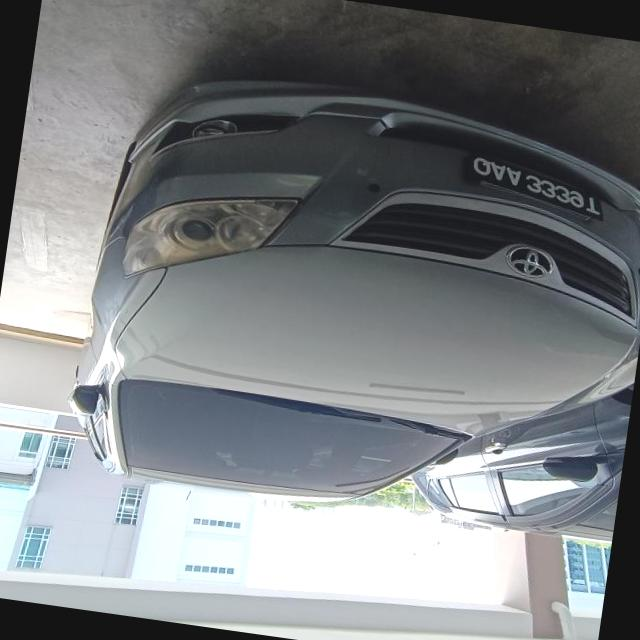ToyotaVios: (56, 53, 640, 550)
